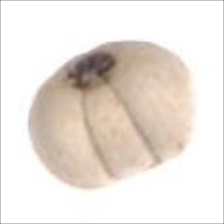L5: (81, 72, 163, 182), (102, 149, 183, 187), (63, 48, 118, 91)
L6: (24, 36, 199, 192)
